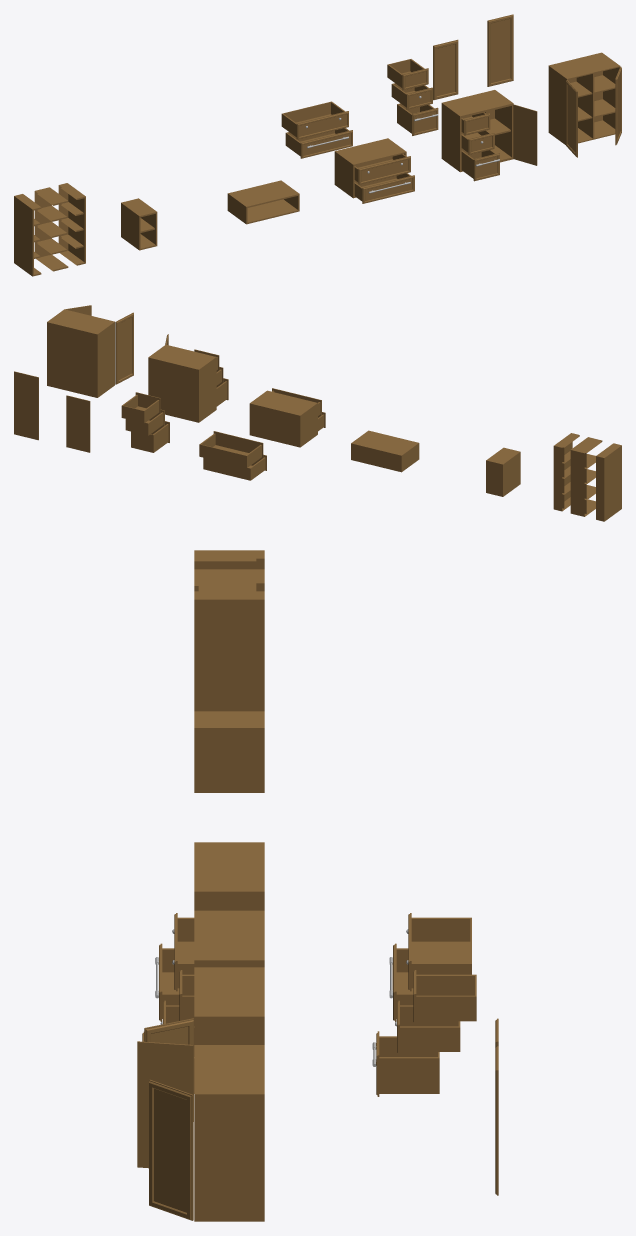
Rendered from Cabinets Textured.fbx.
3 renders of one model, top to bottom at view 1: azimuth 30°, elevation 25°; view 2: azimuth 150°, elevation 25°; view 3: azimuth 270°, elevation 25°, orthographic. The views are drawn at different scales.
Visible parts, largest first — view 1: CabinetSection.002, CabinetSection.012, section1ftTall2ftWide, ShelfMiddle, shelfRight, CabinetSection.018, CabinetSection, CabinetSection.020, shelfLeft, section2ftTall1ftWide, door, CabinetSection.007 (+11 smaller); view 2: CabinetSection.002, CabinetSection.012, CabinetSection, section1ftTall2ftWide, shelfLeft, ShelfMiddle, CabinetSection.020, CabinetSection.018, section2ftTall1ftWide, shelfRight, door, CabinetSection.013 (+4 smaller); view 3: CabinetSection.002, shelfRight, section2ftTall1ftWide, CabinetSection.001, CabinetSection.012, section1ftTall2ftWide, CabinetSection, CabinetSection.020, CabinetSection.013, Cylinder.003, CabinetSection.021, CabinetSection.022 (+6 smaller).
Part boxes in pixels (bbox=[...]): CabinetSection.002: bbox=[548, 52, 620, 144]; CabinetSection.012: bbox=[441, 90, 513, 172]; section1ftTall2ftWide: bbox=[227, 180, 299, 224]; ShelfMiddle: bbox=[34, 187, 68, 271]; shelfRight: bbox=[58, 183, 85, 265]; CabinetSection.018: bbox=[487, 14, 513, 86]; CabinetSection: bbox=[334, 138, 406, 198]; CabinetSection.020: bbox=[281, 101, 348, 139]; shelfLeft: bbox=[14, 194, 41, 276]; section2ftTall1ftWide: bbox=[121, 198, 157, 250]; door: bbox=[433, 39, 458, 100]; CabinetSection.007: bbox=[513, 104, 537, 165]; CabinetSection.002: bbox=[47, 309, 114, 397]; CabinetSection.012: bbox=[148, 344, 216, 422]; CabinetSection: bbox=[249, 390, 317, 447]; section1ftTall2ftWide: bbox=[351, 430, 419, 472]; shelfLeft: bbox=[596, 443, 621, 521]; ShelfMiddle: bbox=[570, 437, 602, 516]; CabinetSection.020: bbox=[199, 431, 263, 467]; CabinetSection.018: bbox=[14, 371, 38, 440]; section2ftTall1ftWide: bbox=[486, 447, 520, 496]; shelfRight: bbox=[553, 433, 579, 511]; door: bbox=[66, 395, 90, 452]; CabinetSection.013: bbox=[115, 312, 133, 384]; CabinetSection.002: bbox=[194, 1045, 264, 1221]; shelfRight: bbox=[194, 591, 264, 711]; section2ftTall1ftWide: bbox=[194, 711, 264, 792]; CabinetSection.001: bbox=[149, 1079, 193, 1220]; CabinetSection.012: bbox=[194, 967, 264, 1044]; section1ftTall2ftWide: bbox=[194, 842, 264, 910]; CabinetSection: bbox=[194, 910, 264, 967]; CabinetSection.020: bbox=[406, 913, 471, 991]; CabinetSection.013: bbox=[137, 1041, 193, 1168]; Cylinder.003: bbox=[372, 1031, 439, 1096]; CabinetSection.021: bbox=[413, 970, 476, 1023]; CabinetSection.022: bbox=[395, 1000, 460, 1054].
Bounding box in the file's own units: 1101 × 120 × 309.
